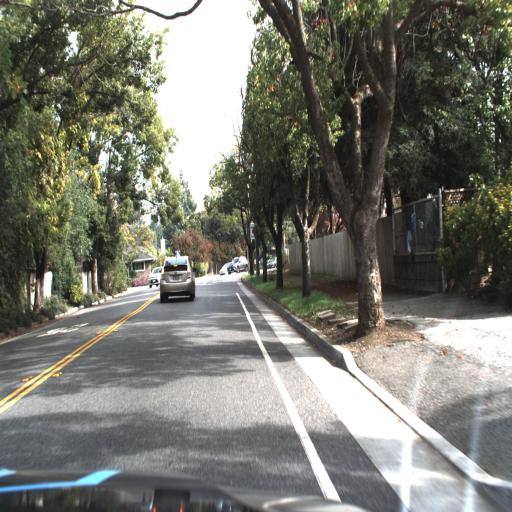car: (156, 254, 192, 304), (228, 251, 250, 276), (147, 264, 164, 286), (214, 257, 231, 278)
